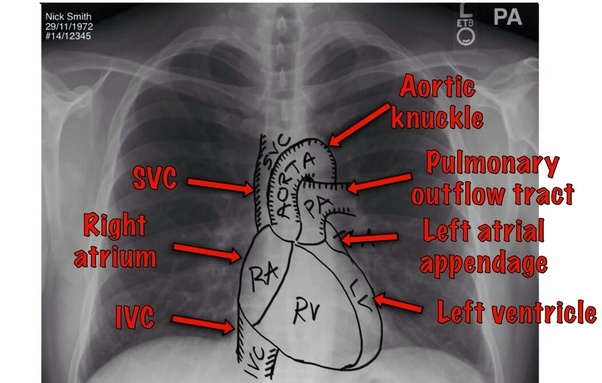telestration: (410, 150, 574, 207), (417, 219, 547, 277), (389, 73, 484, 131), (436, 297, 600, 329), (72, 212, 158, 269), (330, 102, 390, 147), (170, 240, 240, 265), (345, 172, 412, 194), (184, 176, 254, 197), (169, 314, 235, 335), (113, 303, 157, 332), (373, 291, 423, 316), (129, 164, 177, 189), (342, 231, 396, 245)
